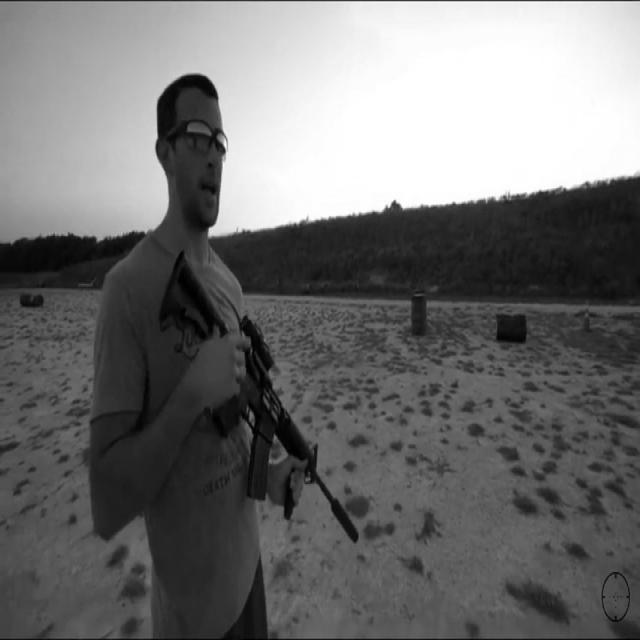Sniper: (143, 170, 406, 640)
